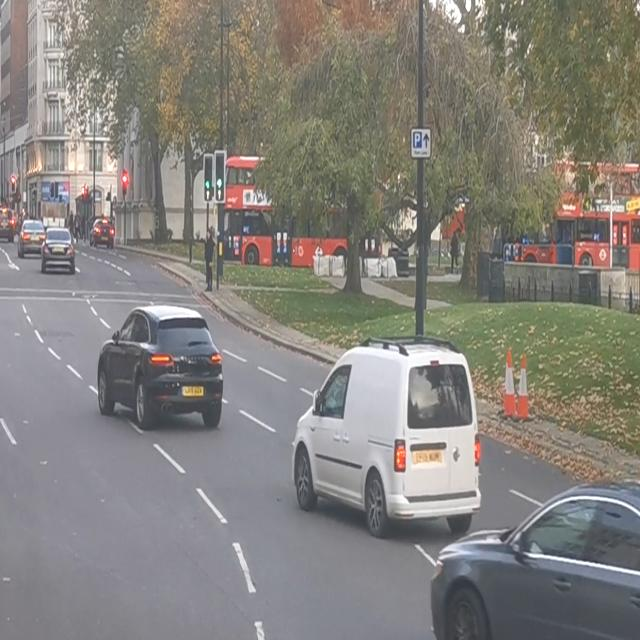Vehicle: (296, 332, 482, 524), (432, 490, 640, 640), (99, 304, 222, 429), (41, 228, 77, 278), (19, 217, 48, 262), (90, 213, 118, 249)
